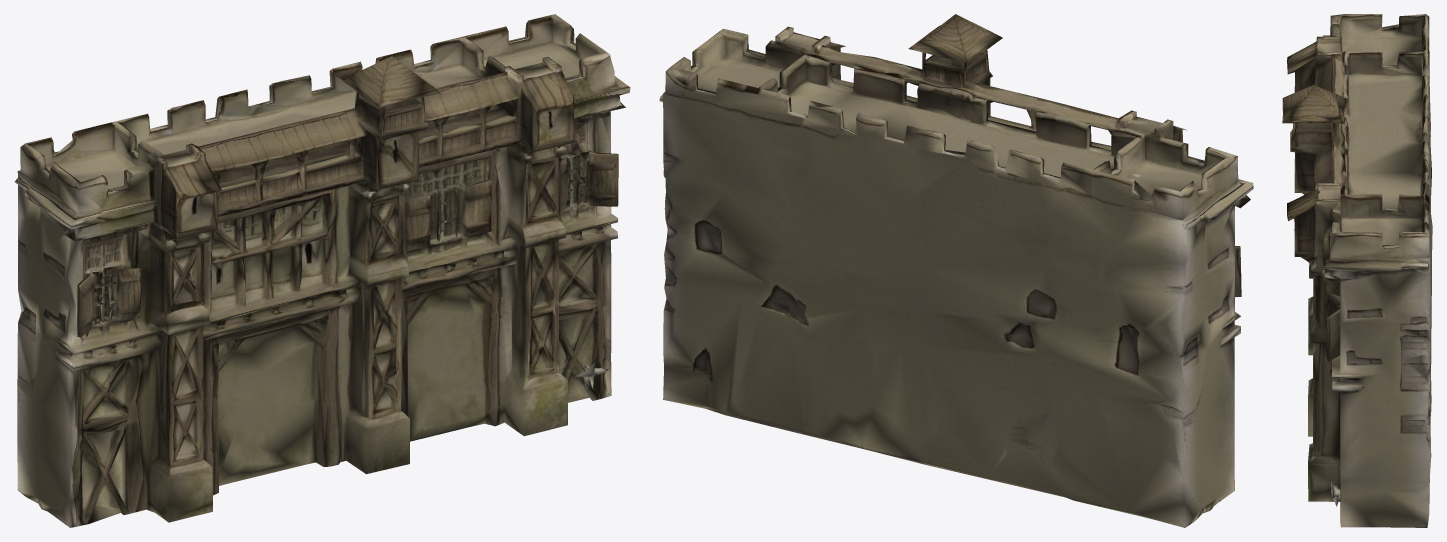
Rendered from medieval-gate.glb.
3 views of the same model, side by side, from view 1: azimuth 30°, elevation 25°; view 2: azimuth 150°, elevation 25°; view 3: azimuth 270°, elevation 25° (orthographic). The views are drawn at different scales.
Parts seen in each view (by area): view 1: tripo_node_dc9cd828-8b84-4a27-866d-0be4ae7fa2ff; view 2: tripo_node_dc9cd828-8b84-4a27-866d-0be4ae7fa2ff; view 3: tripo_node_dc9cd828-8b84-4a27-866d-0be4ae7fa2ff.
Part boxes in pixels (x1=…): tripo_node_dc9cd828-8b84-4a27-866d-0be4ae7fa2ff: x1=14, y1=14, x2=630, y2=527; tripo_node_dc9cd828-8b84-4a27-866d-0be4ae7fa2ff: x1=659, y1=14, x2=1253, y2=527; tripo_node_dc9cd828-8b84-4a27-866d-0be4ae7fa2ff: x1=1282, y1=14, x2=1432, y2=527.
Size of the model in its own units: 1 by 0.6983 by 0.2751.
1 material, 1 textured.
